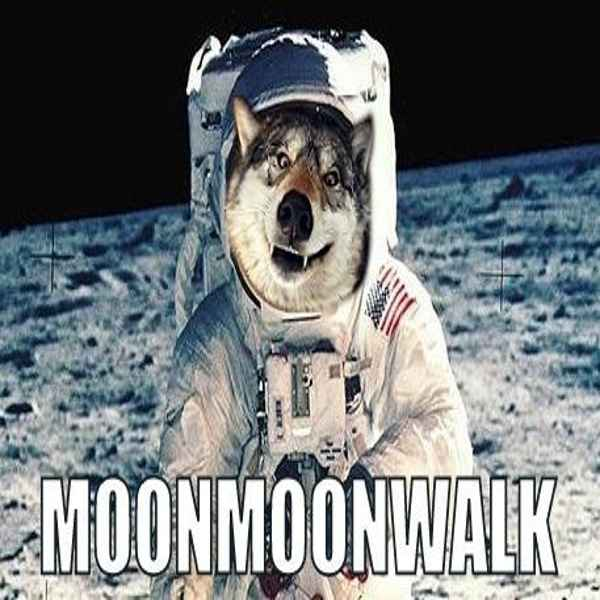doge: (212, 88, 378, 318)
